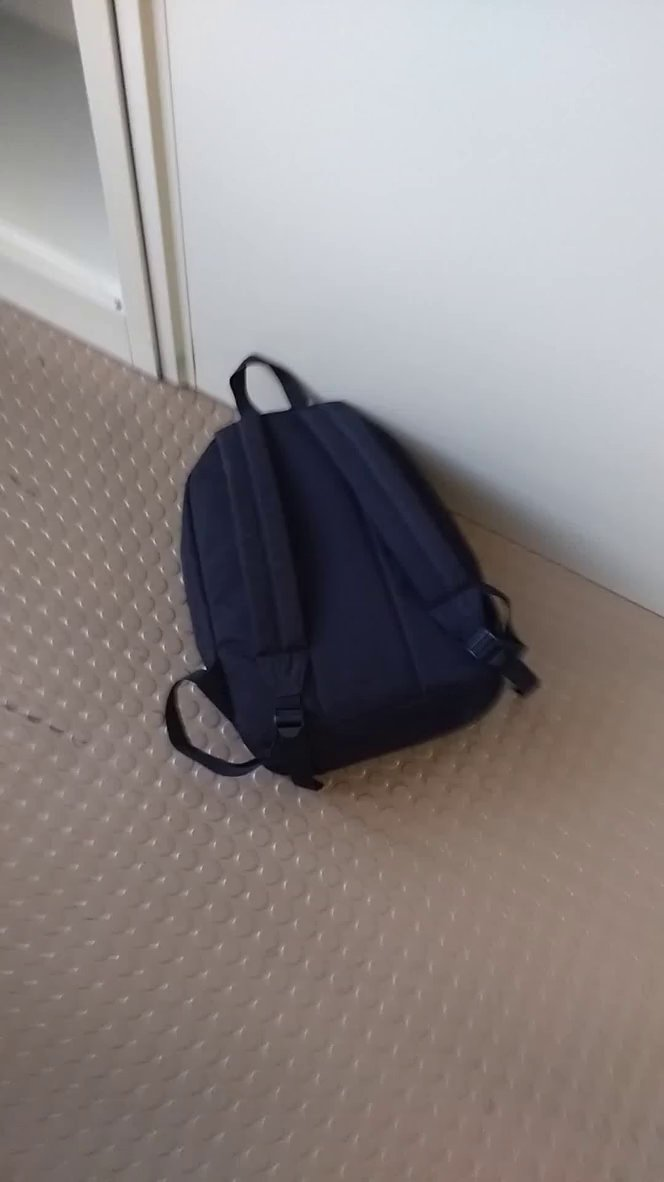bag: (136, 341, 549, 806)
